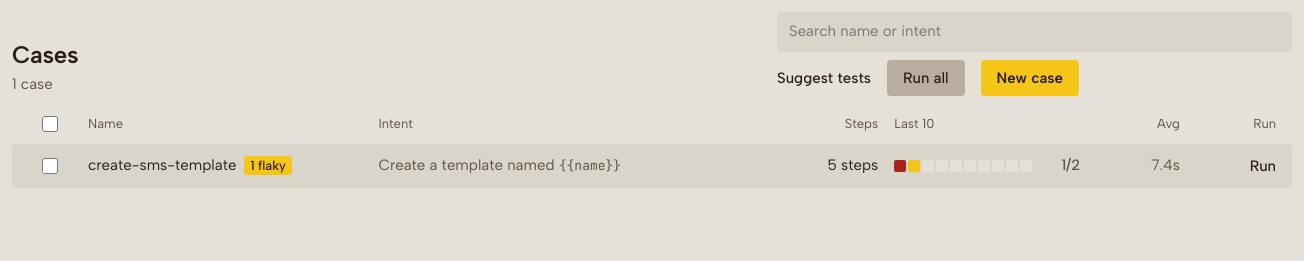
Test case: checking a case shows the selection bar, which runs it as a batch
Expected: the picture named "1 of 2 passed, 1 flaky" is shown, [894,160,1032,172]
Click the checkbox named "Select create-sms-template" at (50, 166), box [42,158,58,174]
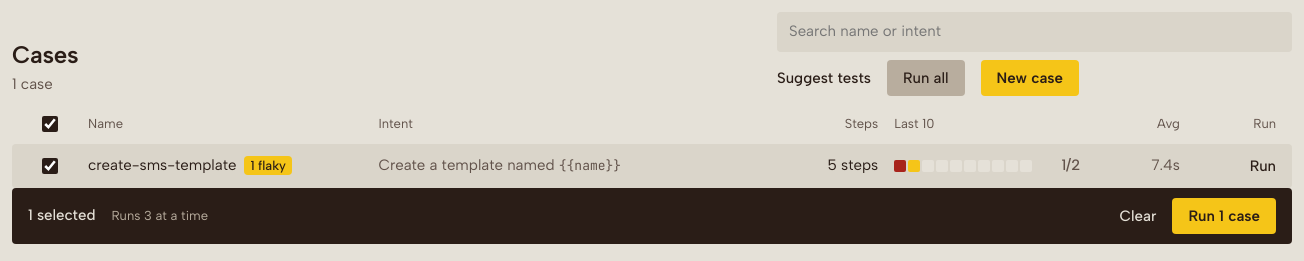
Expected: the element named "Selected cases" shows "1 selected", [12,188,1292,244]
Click the button "Run 1 case" at (1224, 216), box [1172,198,1276,234]
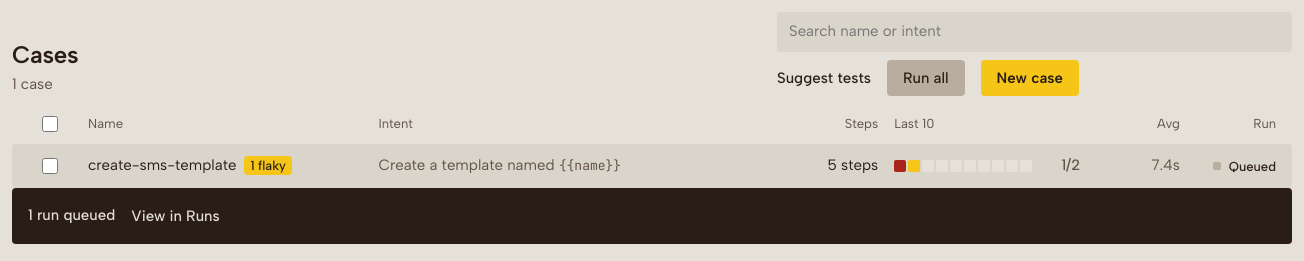
Expected: the text "1 run queued" is shown, [28,205,115,227]
